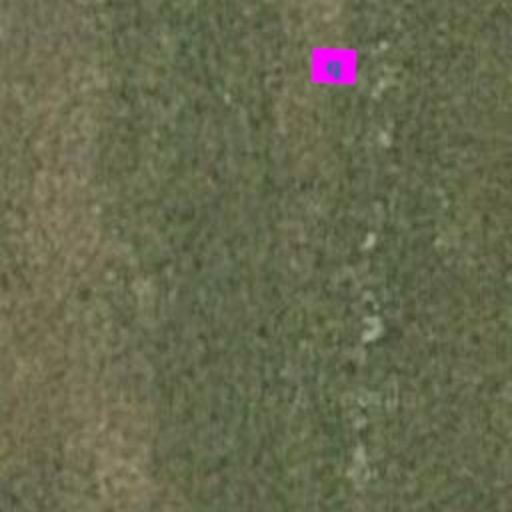rectangle: (310, 42, 358, 90)
